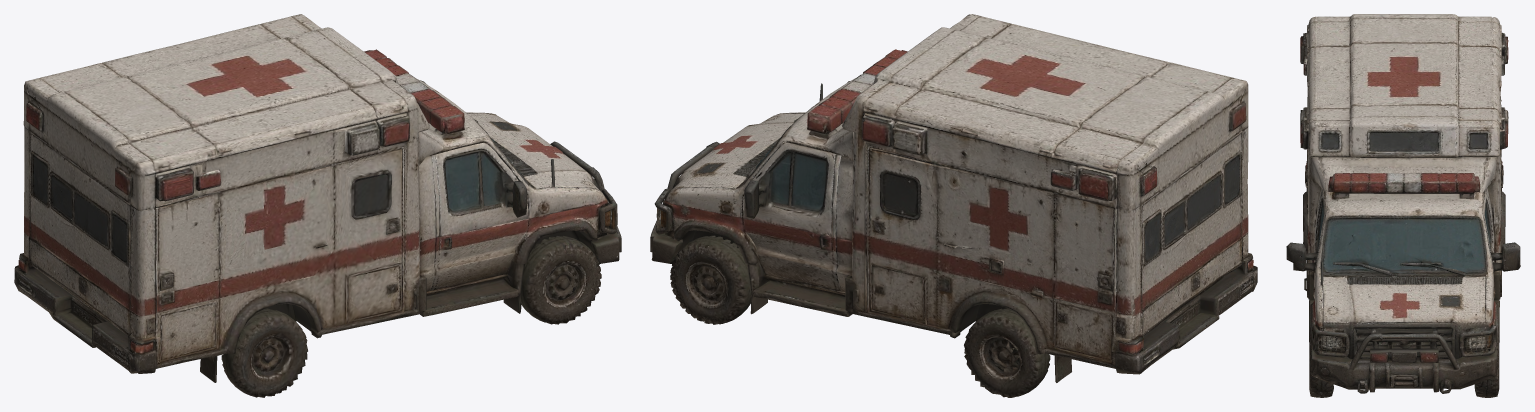
File: tripo_convert_389d1ae1-8572-487e-8e3f-962285cb6224.fbx
3 views of the same model, side by side, from view 1: azimuth 30°, elevation 25°; view 2: azimuth 150°, elevation 25°; view 3: azimuth 270°, elevation 25° (orthographic). The views are drawn at different scales.
Parts seen in each view (by area): view 1: tripo_node_389d1ae1; view 2: tripo_node_389d1ae1; view 3: tripo_node_389d1ae1.
Part boxes in pixels (x1,y1,x2,y2): tripo_node_389d1ae1: (14,14,621,397); tripo_node_389d1ae1: (650,14,1257,397); tripo_node_389d1ae1: (1286,14,1520,397).
Size of the model in its own units: 0.9815 by 0.4881 by 0.4802.
Materials: 1 (1 with a texture image).
